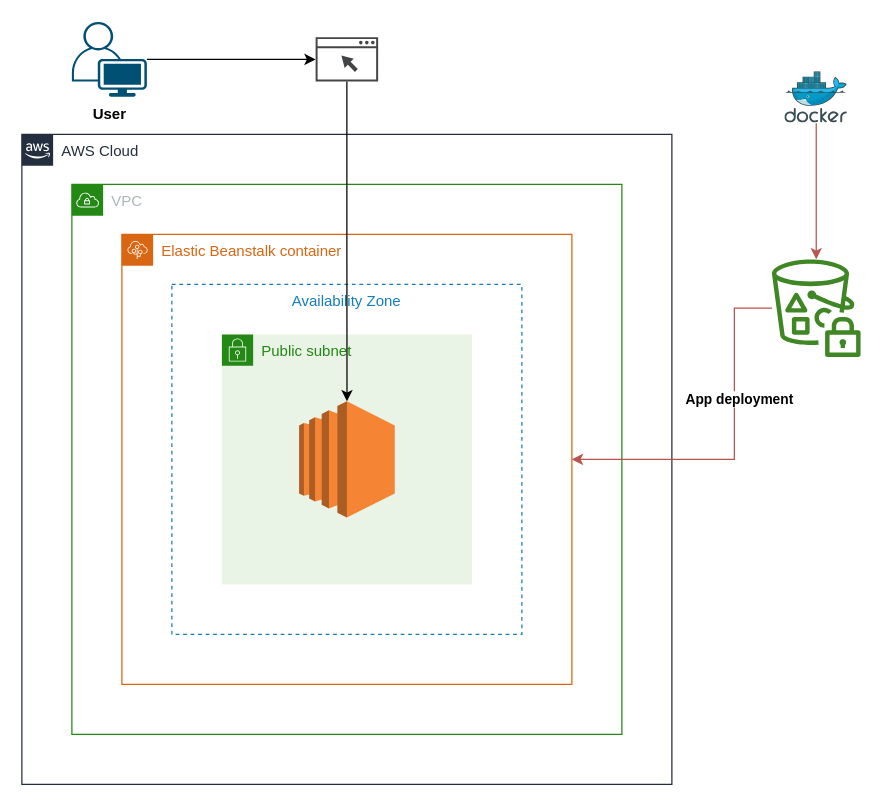
The diagram is 883 pixels wide and 806 high, and some of its shapes have lost their labels. The shapes that lost their labels are listed below. From the top down, each one's centre as x and y in pixels, then its label:
At (x=346, y=58): "Browser".
At (x=815, y=307): "S3 Bucket".
At (x=346, y=459): "EC2 Instance".
